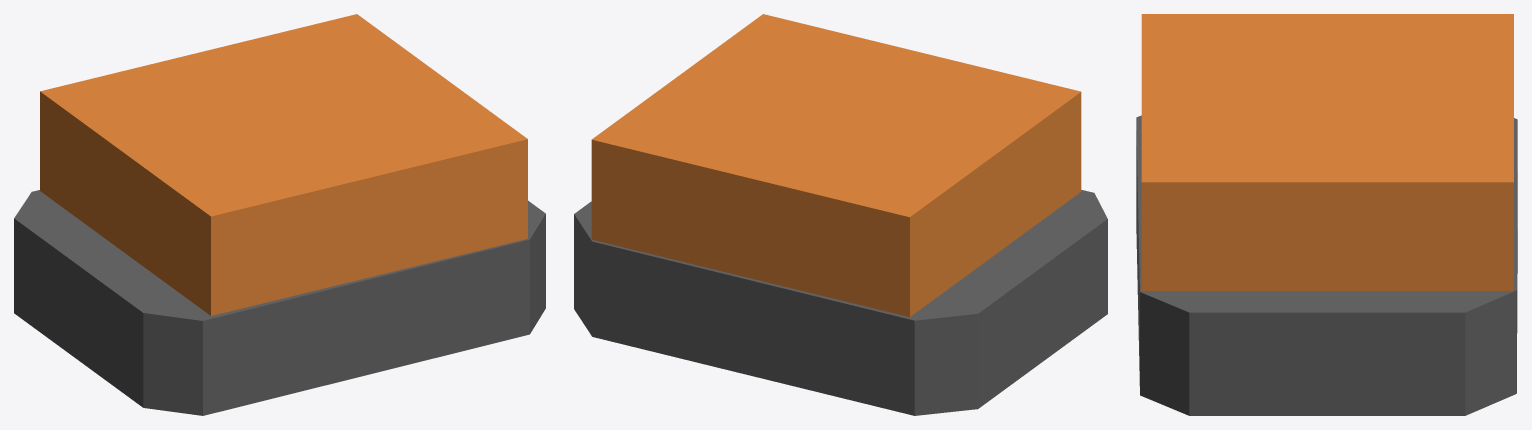
Rendered from opt4.dae.
The picture shows the model from 3 angles, left to right: view 1: azimuth 30°, elevation 25°; view 2: azimuth 150°, elevation 25°; view 3: azimuth 270°, elevation 25°; orthographic projection. The views are drawn at different scales.
Visible parts, largest first — view 1: Cube; view 2: Cube; view 3: Cube.
Boxes of the visible parts, bbox=[...] form: Cube: bbox=[14, 14, 545, 415]; Cube: bbox=[574, 14, 1107, 415]; Cube: bbox=[1136, 14, 1517, 415].
Bounding box in the file's own units: 0.4882 × 0.367 × 0.2254.
